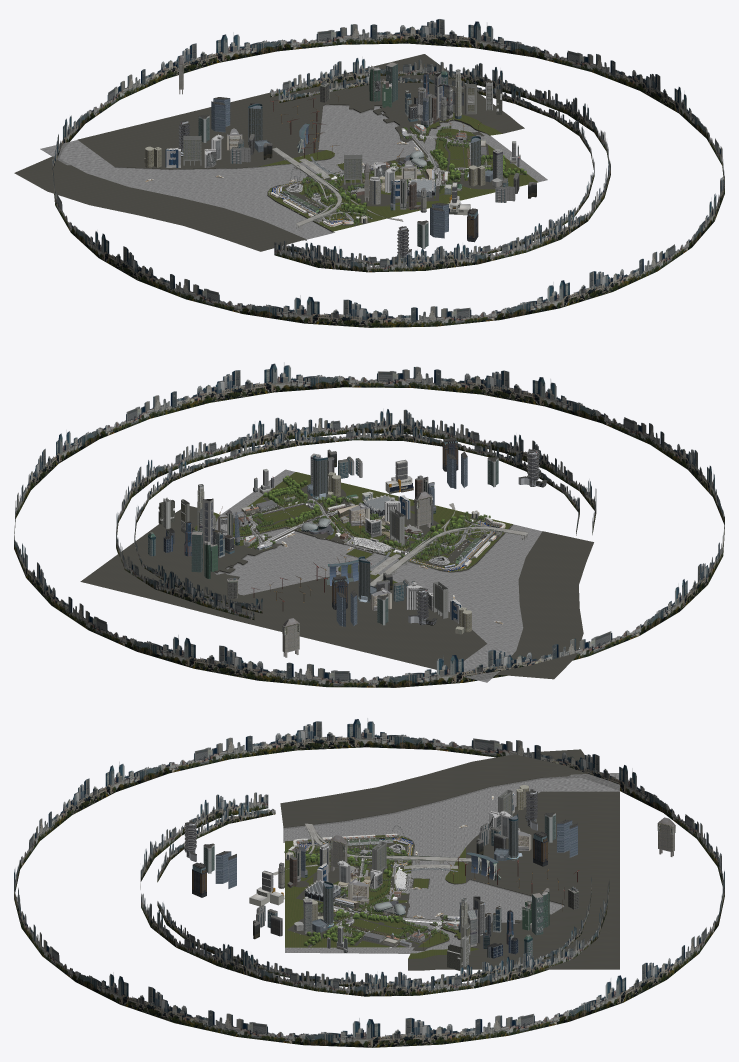
File: SUP_marina_bay_street_circuit.glb
3 renders of one model, top to bottom at view 1: azimuth 30°, elevation 25°; view 2: azimuth 150°, elevation 25°; view 3: azimuth 270°, elevation 25°, orthographic. The views are drawn at different scales.
Visible parts, largest first — view 1: SUP_marina_bay_street_circuit; view 2: SUP_marina_bay_street_circuit; view 3: SUP_marina_bay_street_circuit.
Boxes of the visible parts, x1,y1,x2,y2 form: SUP_marina_bay_street_circuit: (14,19,724,327); SUP_marina_bay_street_circuit: (14,362,724,687); SUP_marina_bay_street_circuit: (14,718,724,1047).
Bounding box in the file's own units: 4301 × 385 × 4301.
Materials: 100 (99 with a texture image).
